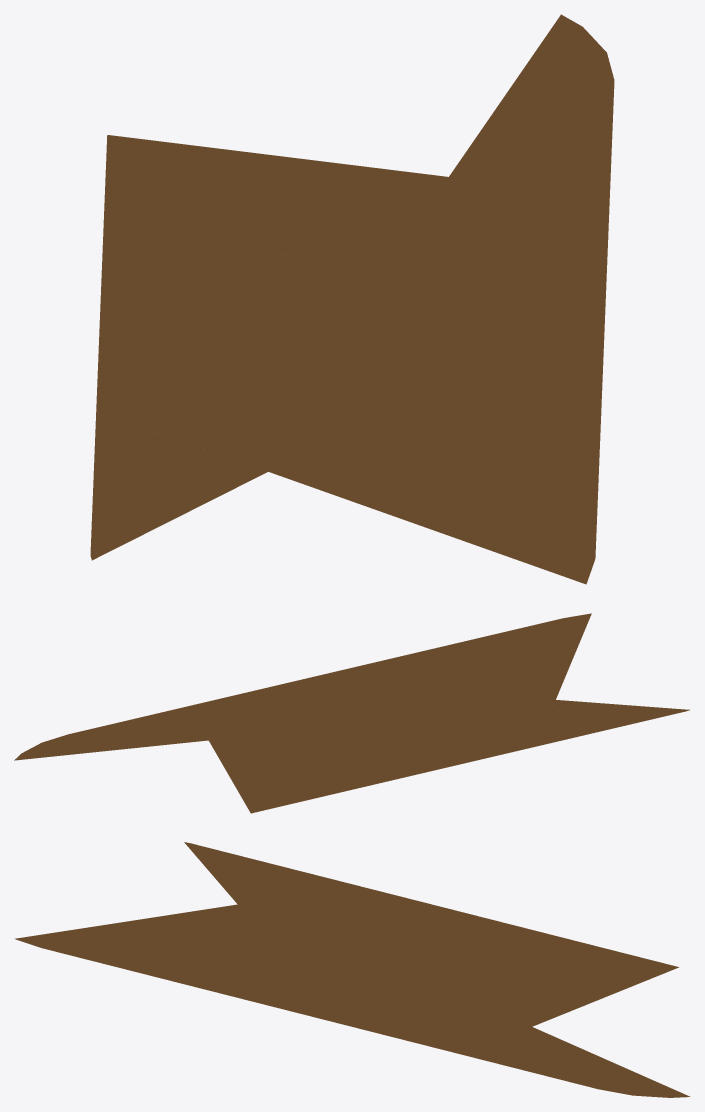
Rendered from published-manymouth-delta-walk-manymouth-marketentrance.glb.
3 renders of one model, top to bottom at view 1: azimuth 30°, elevation 25°; view 2: azimuth 150°, elevation 25°; view 3: azimuth 270°, elevation 25°, orthographic. The views are drawn at different scales.
Visible parts, largest first — view 1: Walk_Manymouth_MarketEntrance; view 2: Walk_Manymouth_MarketEntrance; view 3: Walk_Manymouth_MarketEntrance.
Boxes of the visible parts, box(x1,y1,x2,y2) form: Walk_Manymouth_MarketEntrance: box(90, 14, 614, 584); Walk_Manymouth_MarketEntrance: box(14, 613, 689, 813); Walk_Manymouth_MarketEntrance: box(14, 842, 690, 1097).
Bounding box in the file's own units: 5.44 × 0 × 6.08.
